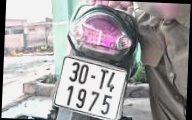Bien-so: (54, 54, 136, 120)
